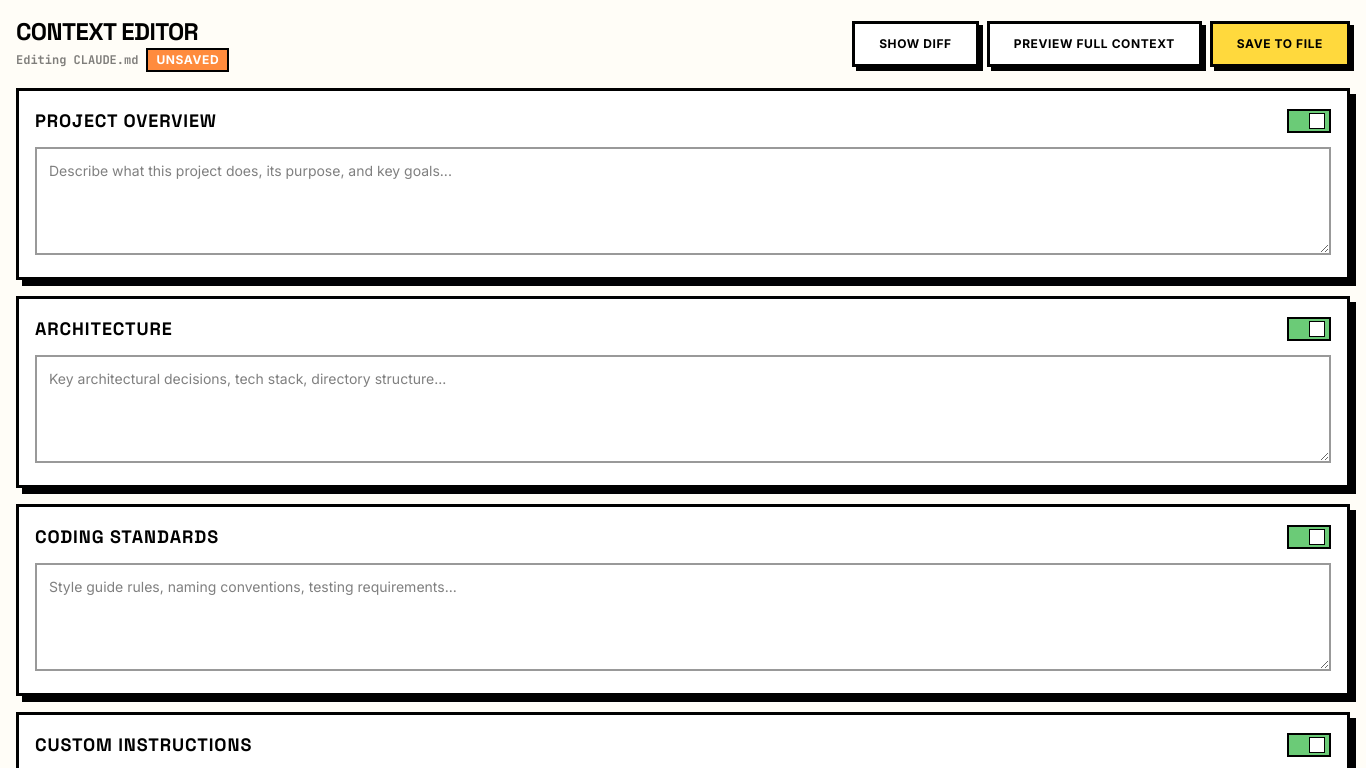
Test case: ContextEditor › toggles preview panel on click
Click the button "Preview Full Context".
click(1094, 44)  # box left=987, top=21, right=1202, bottom=67
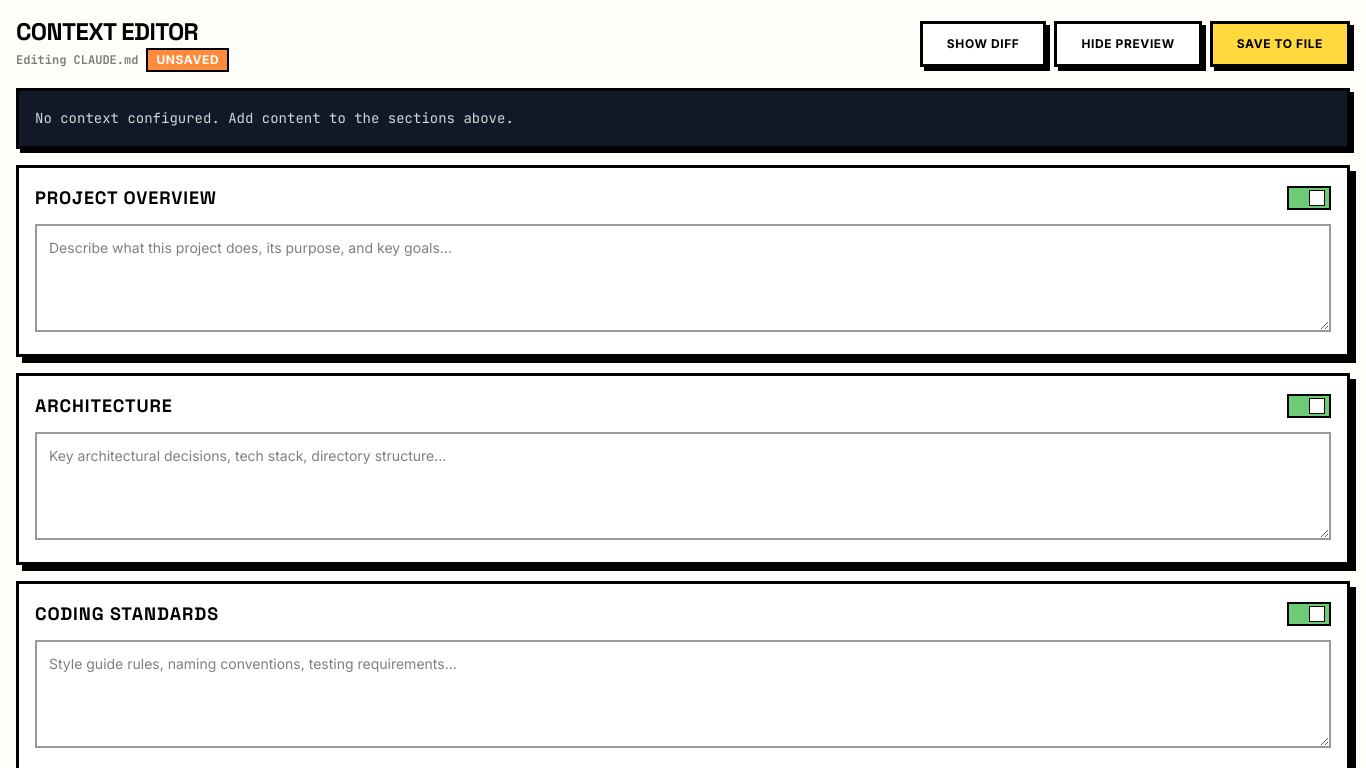
Check: the element with test id "context-preview" is shown, box left=16, top=88, right=1350, bottom=149
